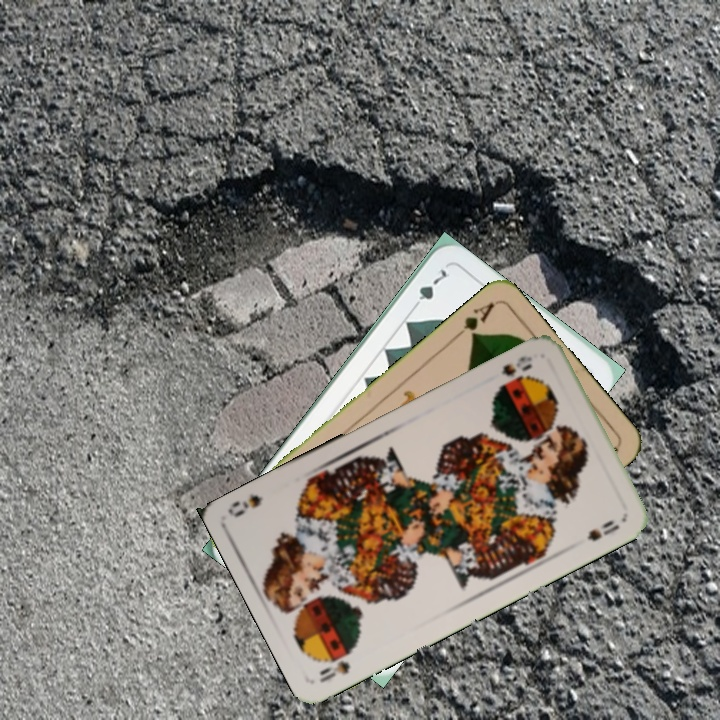G7: (407, 264, 450, 314)
GA: (449, 298, 498, 343)
SO: (494, 351, 535, 390), (315, 647, 355, 685)
